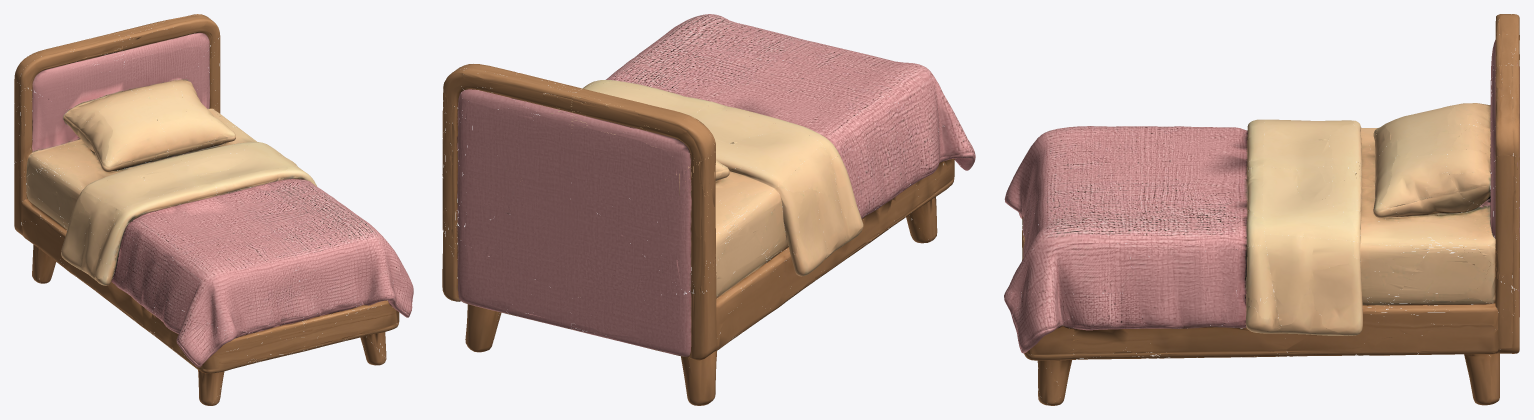
Rendered from bed.glb.
3 views of the same model, side by side, from view 1: azimuth 30°, elevation 25°; view 2: azimuth 150°, elevation 25°; view 3: azimuth 270°, elevation 25° (orthographic). The views are drawn at different scales.
Visible parts, largest first — view 1: bed; view 2: bed; view 3: bed.
Boxes of the visible parts, x1,y1,x2,y2 form: bed: (14, 14, 413, 405); bed: (442, 14, 975, 405); bed: (1004, 14, 1519, 405).
Bounding box in the file's own units: 0.6665 × 0.5972 × 0.9799.
1 material, 1 textured.
